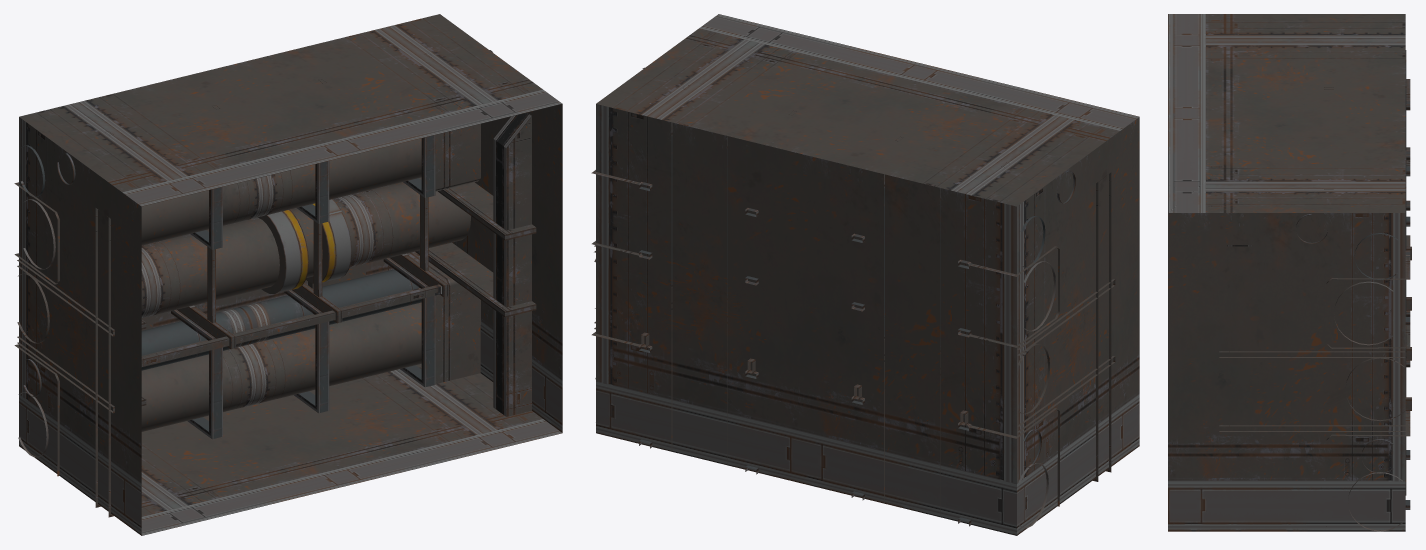
File: Wall_grid_Int.fbx
3 renders of one model, left to right at view 1: azimuth 30°, elevation 25°; view 2: azimuth 150°, elevation 25°; view 3: azimuth 270°, elevation 25°, orthographic. The views are drawn at different scales.
Parts seen in each view (by area): view 1: polySurface252; view 2: polySurface252; view 3: polySurface252.
Boxes of the visible parts, x1,y1,x2,y2 form: polySurface252: [14, 14, 562, 535]; polySurface252: [591, 14, 1139, 535]; polySurface252: [1168, 14, 1411, 531].
Size of the model in its own units: 400 by 299 by 205.
